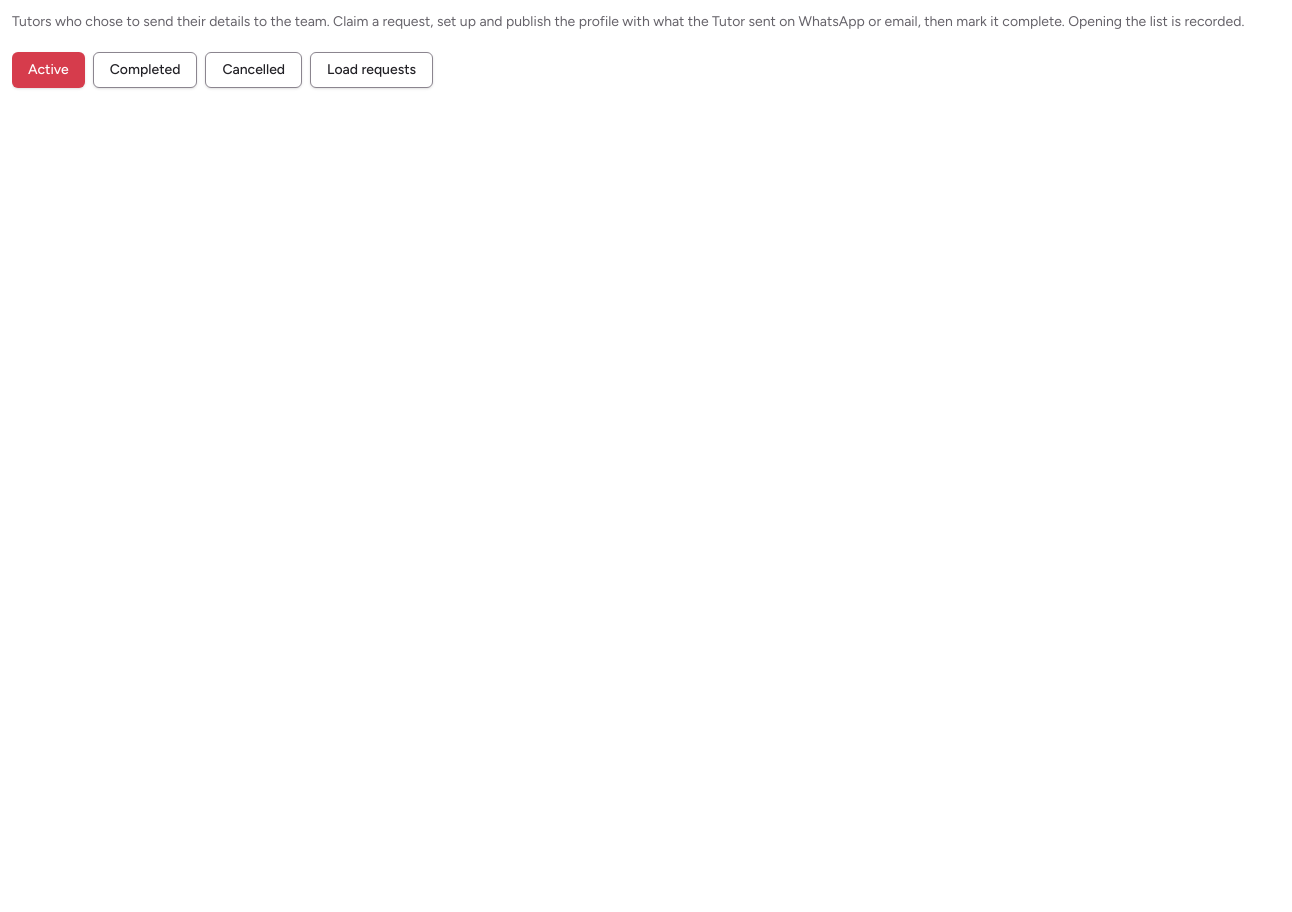
Test: a completed request can be reopened and comes back to the staff member's workspace
The width and height of the screenshot is (1292, 912).
Click the button "Load requests" at (372, 70), box [310,52,433,88]
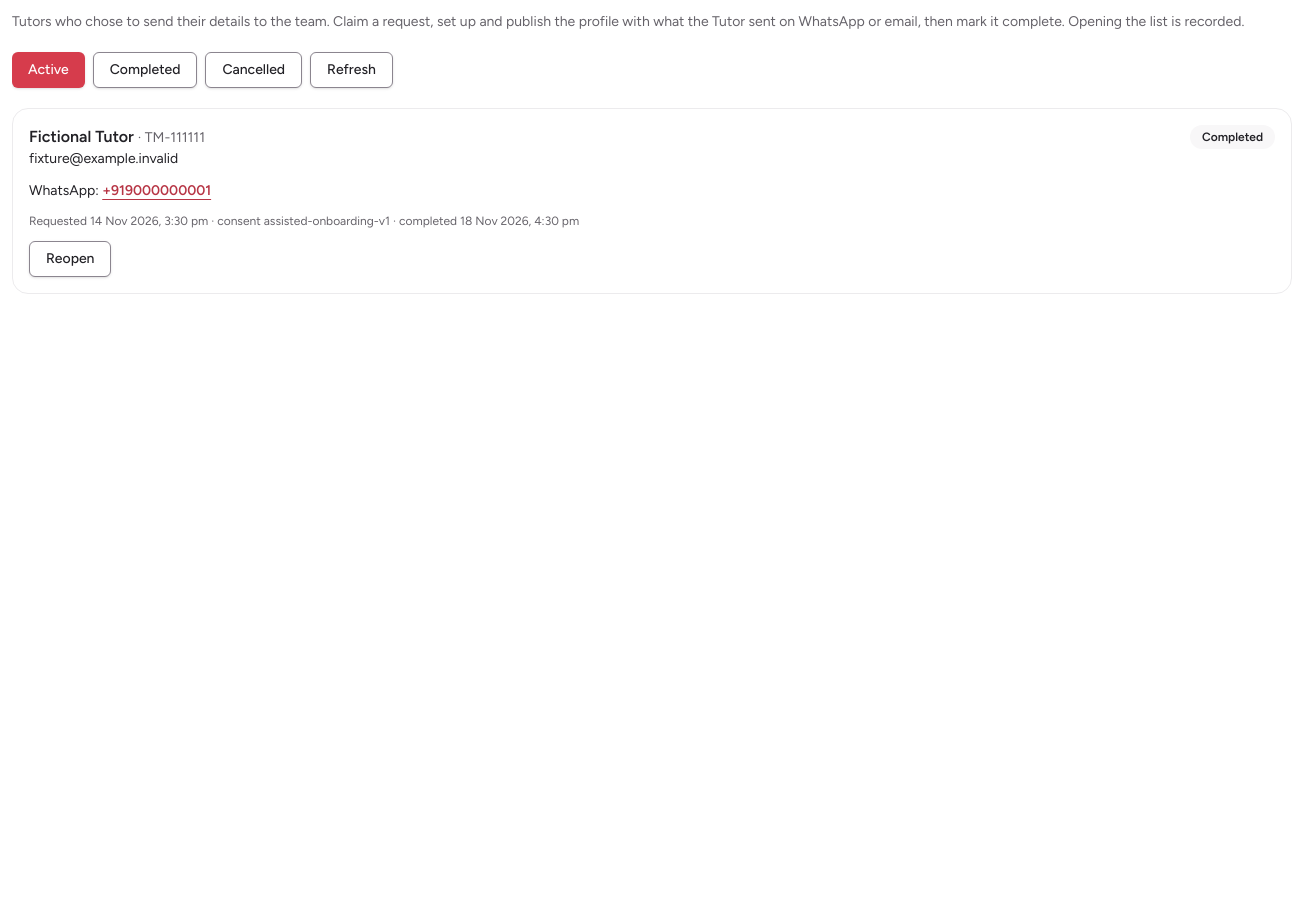
Click the button "Reopen" at (70, 259), box [29,241,112,277]
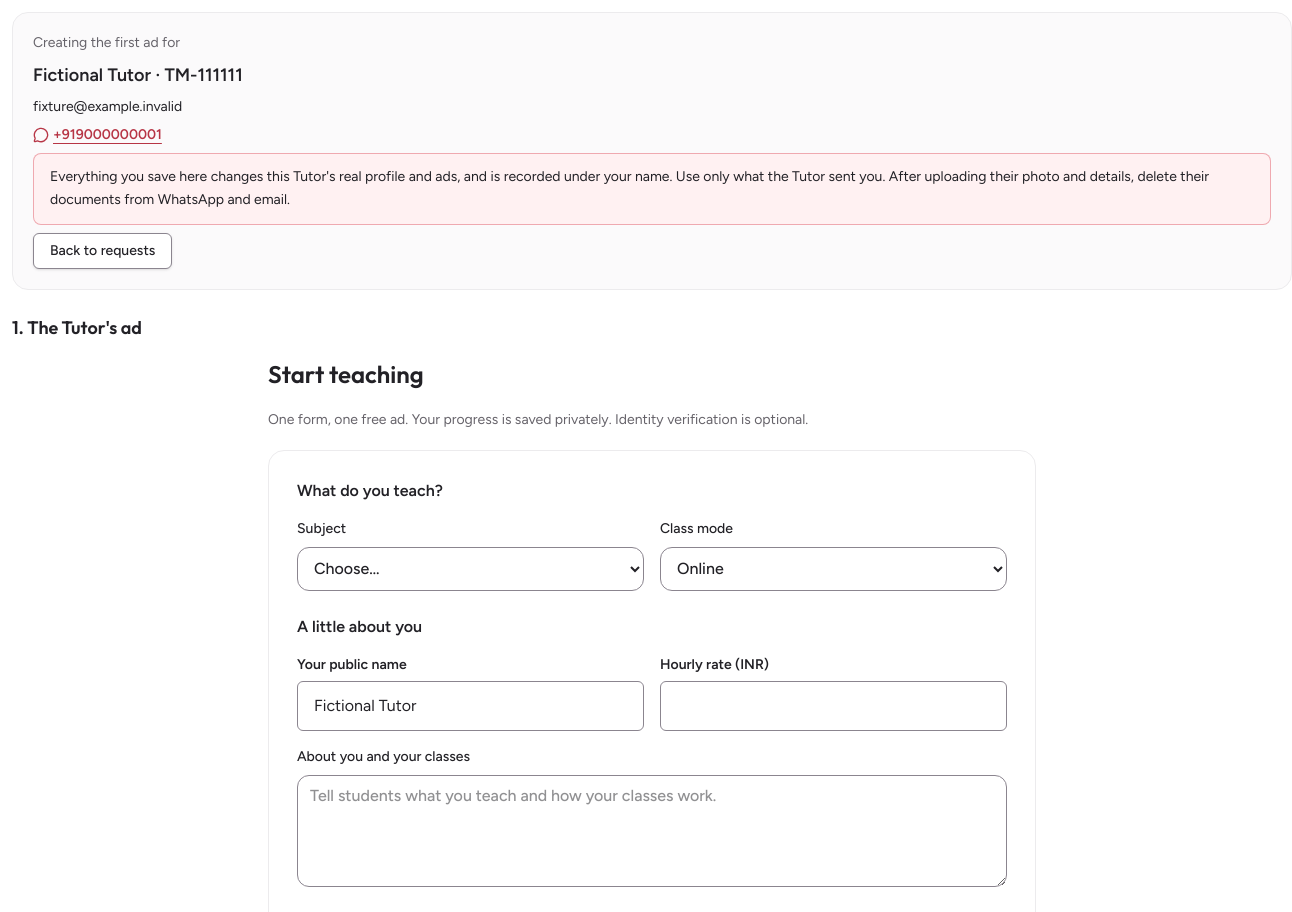
Result: the text "Creating the first ad for" is shown at [33,34,180,51]
